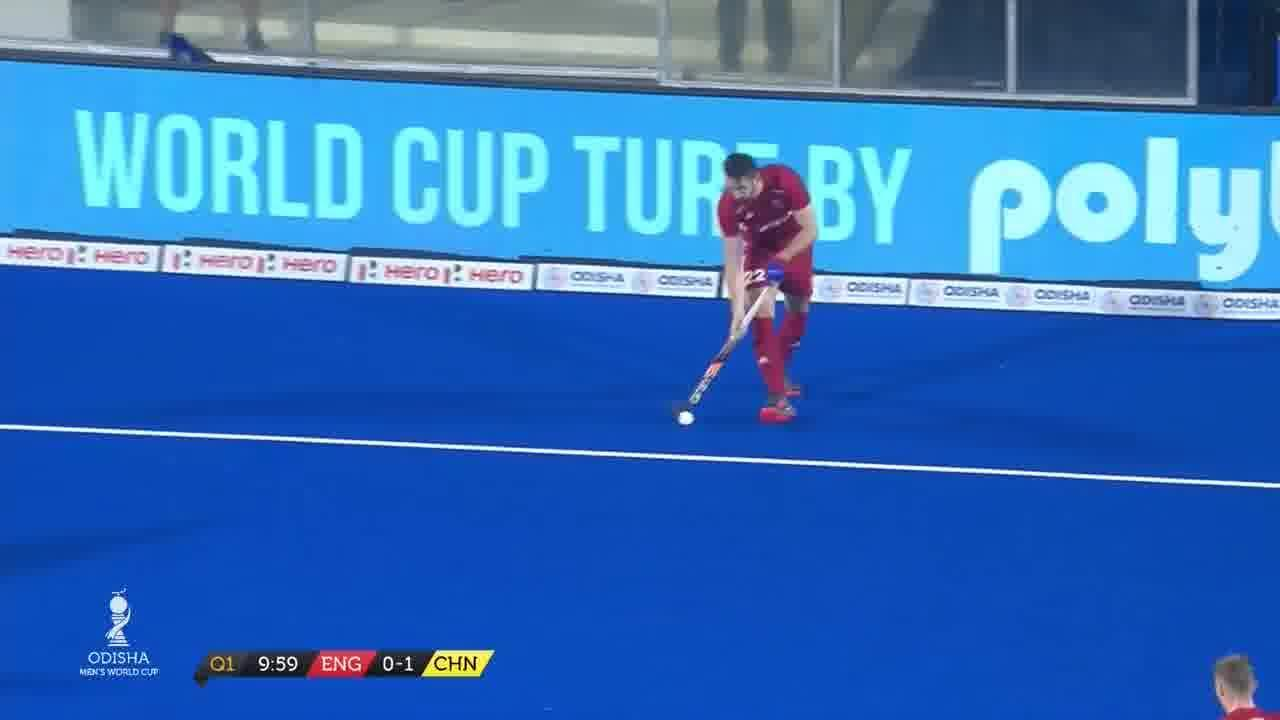ball: (676, 402, 698, 430)
